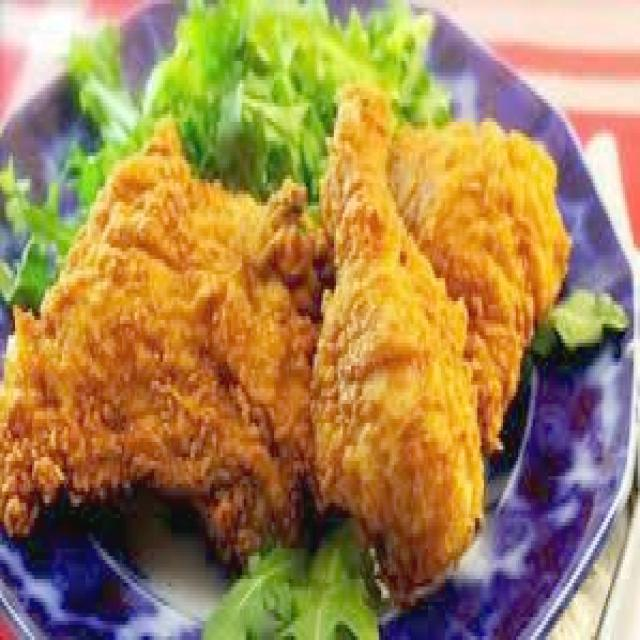fried_chicken: (2, 122, 336, 556), (308, 88, 488, 586), (388, 122, 574, 457)
